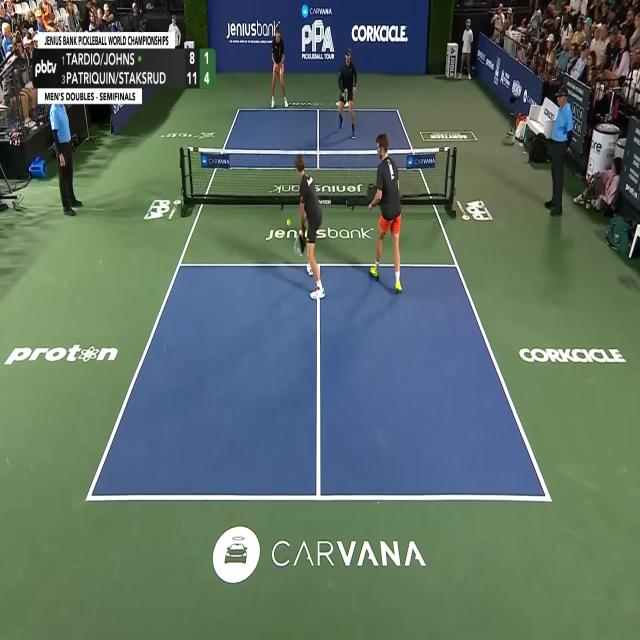ball: (286, 218, 291, 227)
